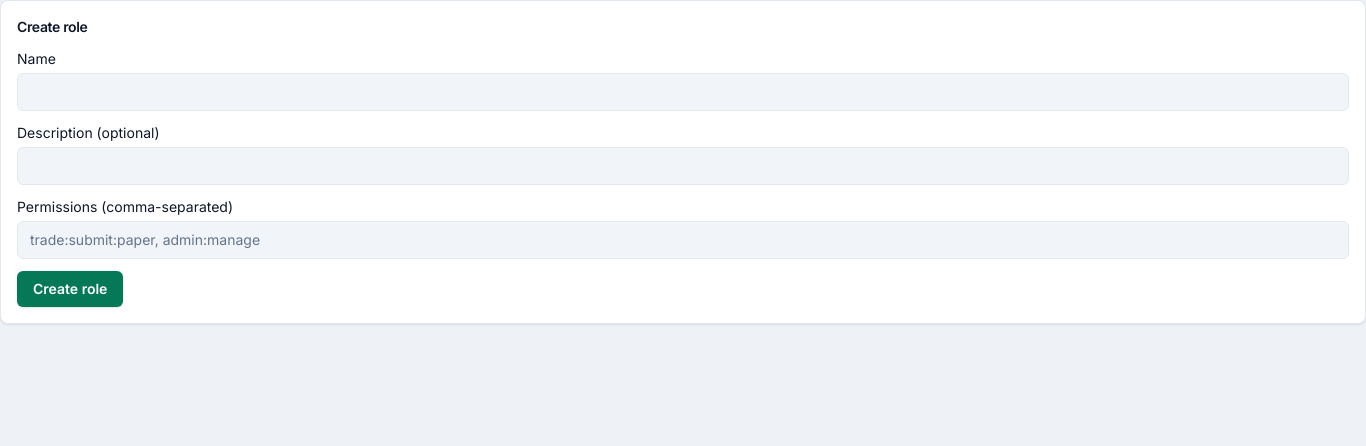
CreateRoleForm › renders a created role's permissions on success
This screenshot has width=1366, height=446.
In the field labelled "Name": (683, 92) [17, 73, 1349, 111], type "trader"
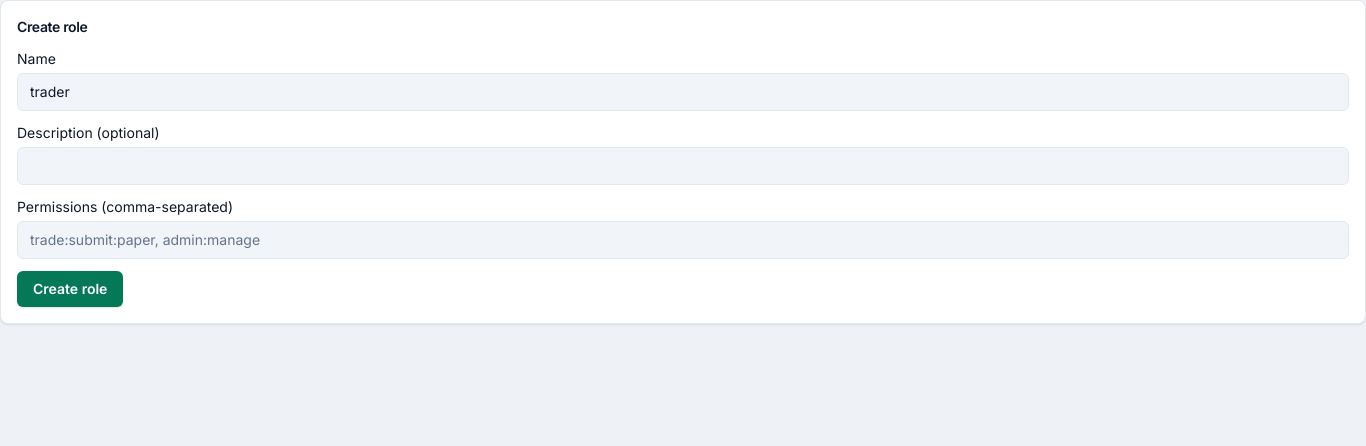
In the field labelled "Permissions (comma-separated)": (683, 240) [17, 221, 1349, 259], type "trade:submit:paper"
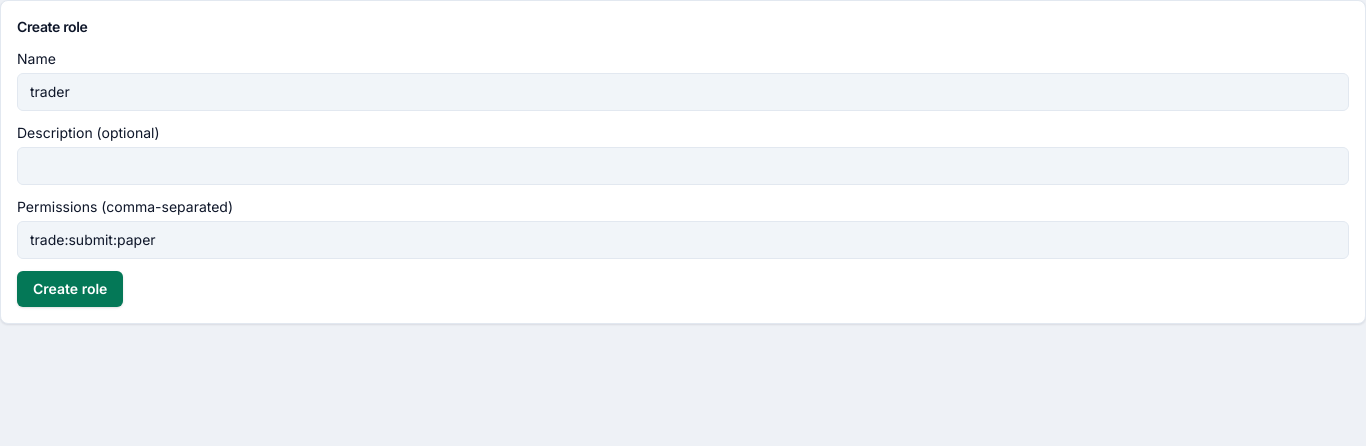
Click the button "Create role": (70, 289) [17, 271, 123, 307]
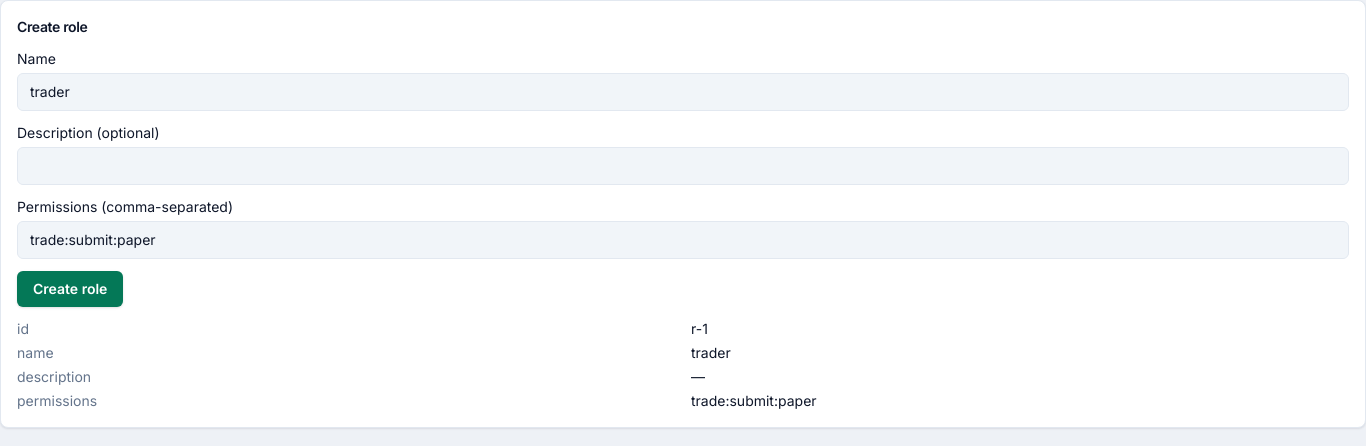
Expected: the text "trade:submit:paper" is shown, [691, 392, 817, 409]
